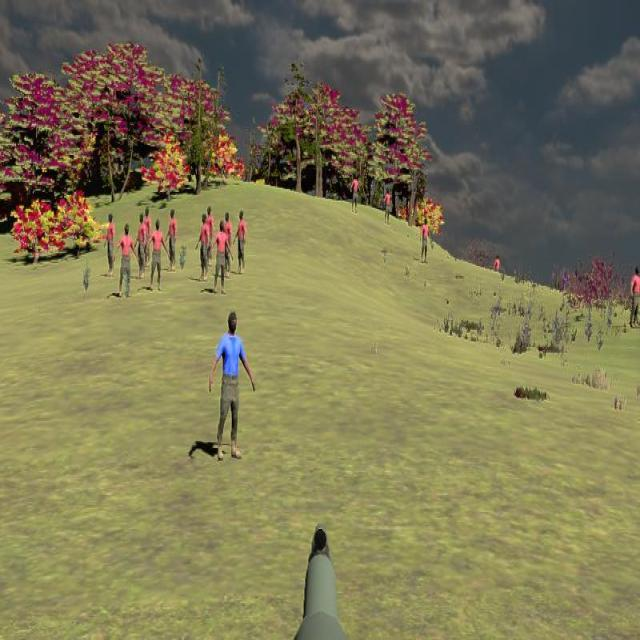Human: (209, 311, 255, 460), (114, 224, 138, 298), (146, 220, 169, 291), (211, 221, 233, 294), (233, 210, 247, 274), (196, 213, 209, 281), (135, 214, 146, 280), (166, 209, 177, 272), (105, 213, 115, 277), (630, 266, 640, 329)
